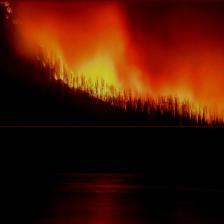fire: (0, 0, 224, 127)
